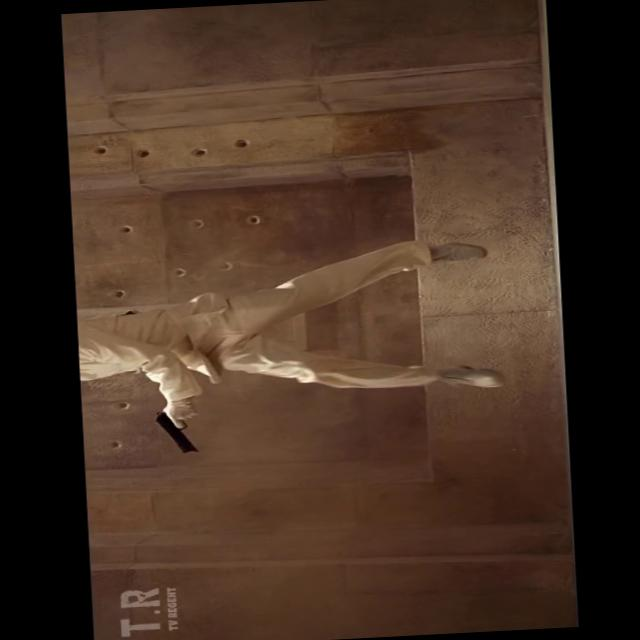handgun: (138, 389, 248, 466)
